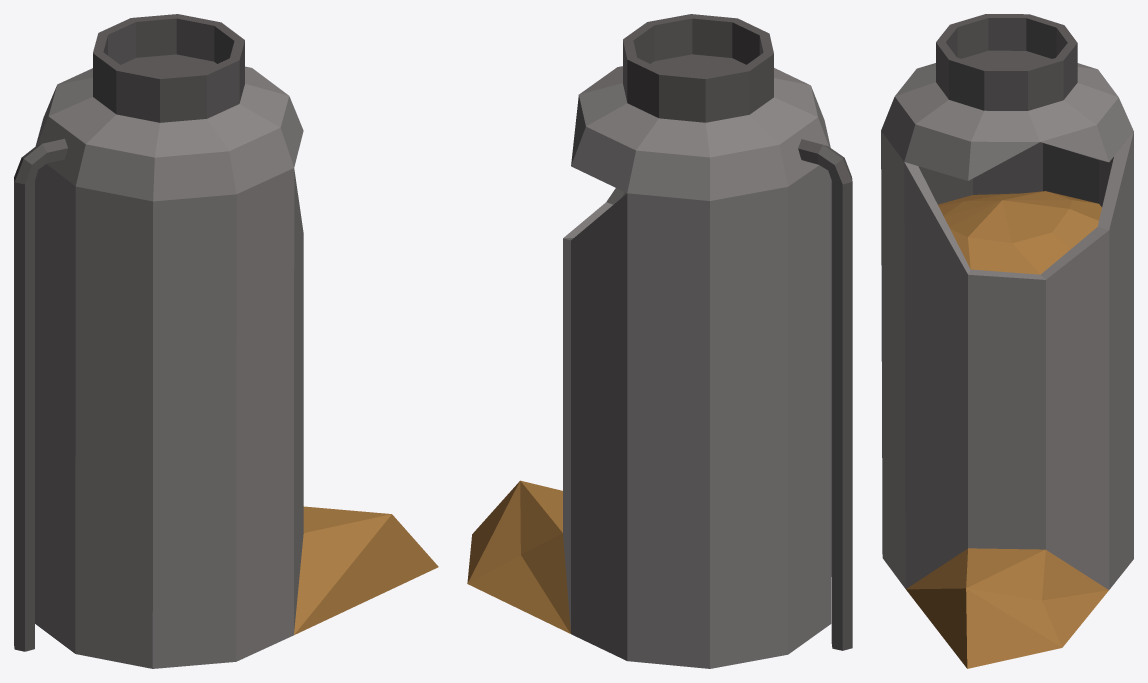
File: apocalypse-silo-hole-medium.glb
3 renders of one model, left to right at view 1: azimuth 30°, elevation 25°; view 2: azimuth 150°, elevation 25°; view 3: azimuth 270°, elevation 25°, orthographic. The views are drawn at different scales.
Visible parts, largest first — view 1: silo-apocalypse-hole-medium; view 2: silo-apocalypse-hole-medium; view 3: silo-apocalypse-hole-medium.
Boxes of the visible parts, x1,y1,x2,y2 form: silo-apocalypse-hole-medium: (14, 14, 438, 668); silo-apocalypse-hole-medium: (467, 14, 852, 668); silo-apocalypse-hole-medium: (881, 14, 1133, 668).
Bounding box in the file's own units: 6.75 × 9.05 × 4.02.
